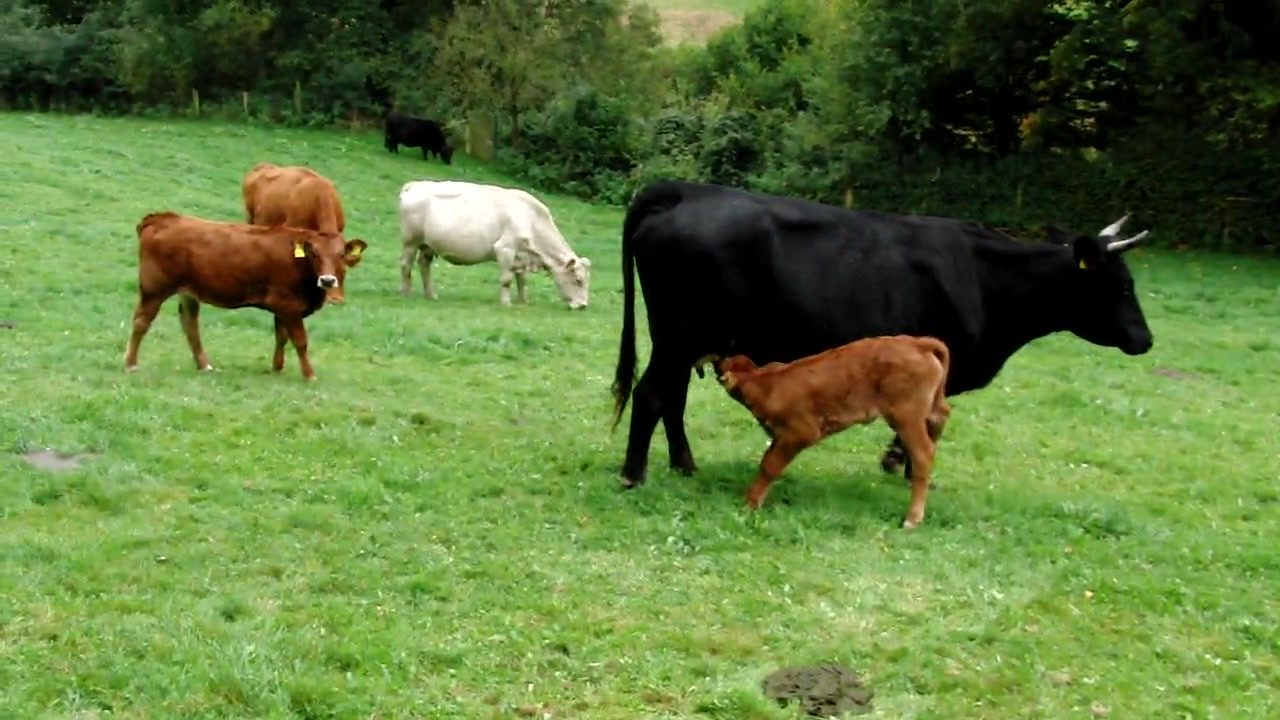cow: (121, 207, 367, 381)
